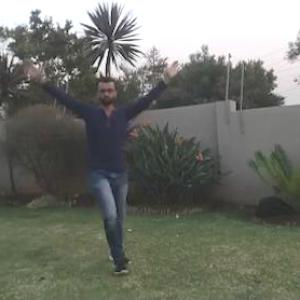takeoff: (23, 58, 177, 278)
